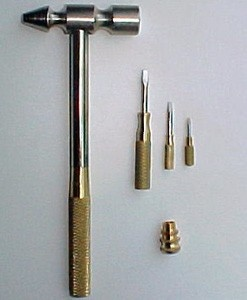hammer: (19, 3, 145, 296)
